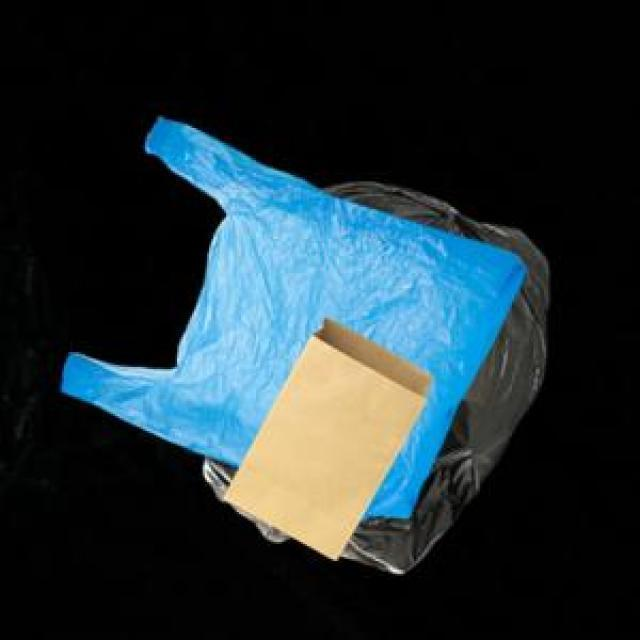miscellaneous trash: (266, 179, 544, 570)
paper: (220, 314, 429, 555)
